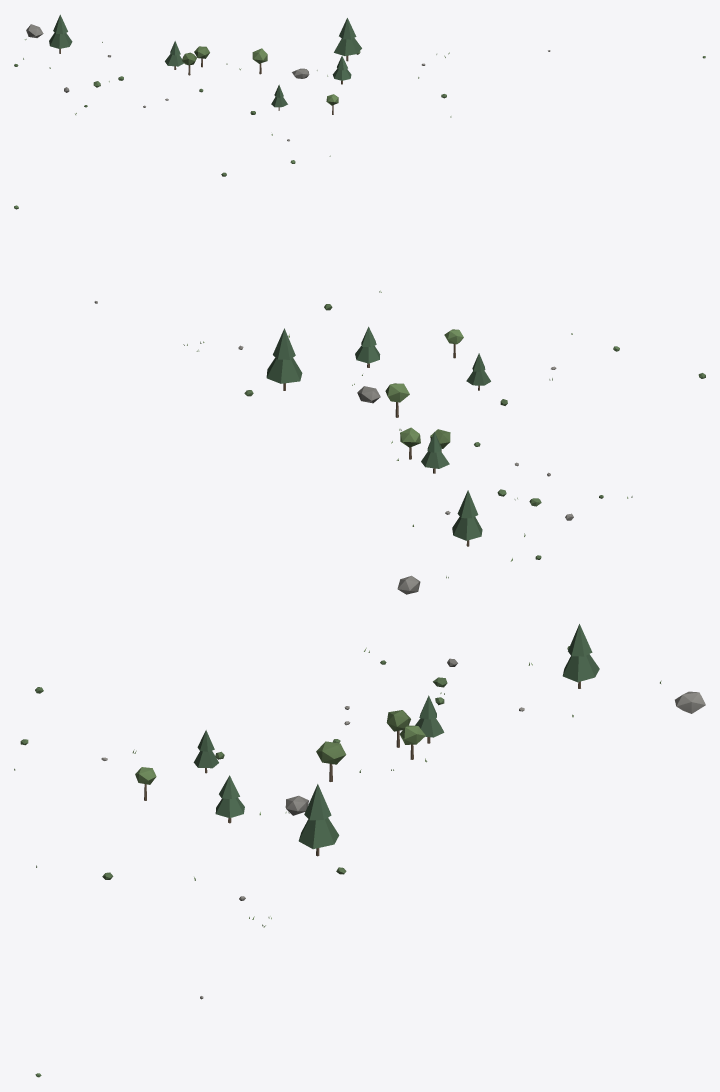
The model's file is arch_land_scatter_c19_21_lod1.glb.
3 renders of one model, top to bottom at view 1: azimuth 30°, elevation 25°; view 2: azimuth 150°, elevation 25°; view 3: azimuth 270°, elevation 25°, orthographic. The views are drawn at different scales.
Visible parts, largest first — view 1: arch_land_scatter_c19_21_lod1; view 2: arch_land_scatter_c19_21_lod1; view 3: arch_land_scatter_c19_21_lod1.
Boxes of the visible parts, left/top/right/bottom form: arch_land_scatter_c19_21_lod1: left=14, top=14, right=705, bottom=176; arch_land_scatter_c19_21_lod1: left=14, top=205, right=705, bottom=594; arch_land_scatter_c19_21_lod1: left=14, top=624, right=705, bottom=1077.
Size of the model in its own units: 193 by 18.46 by 132.
